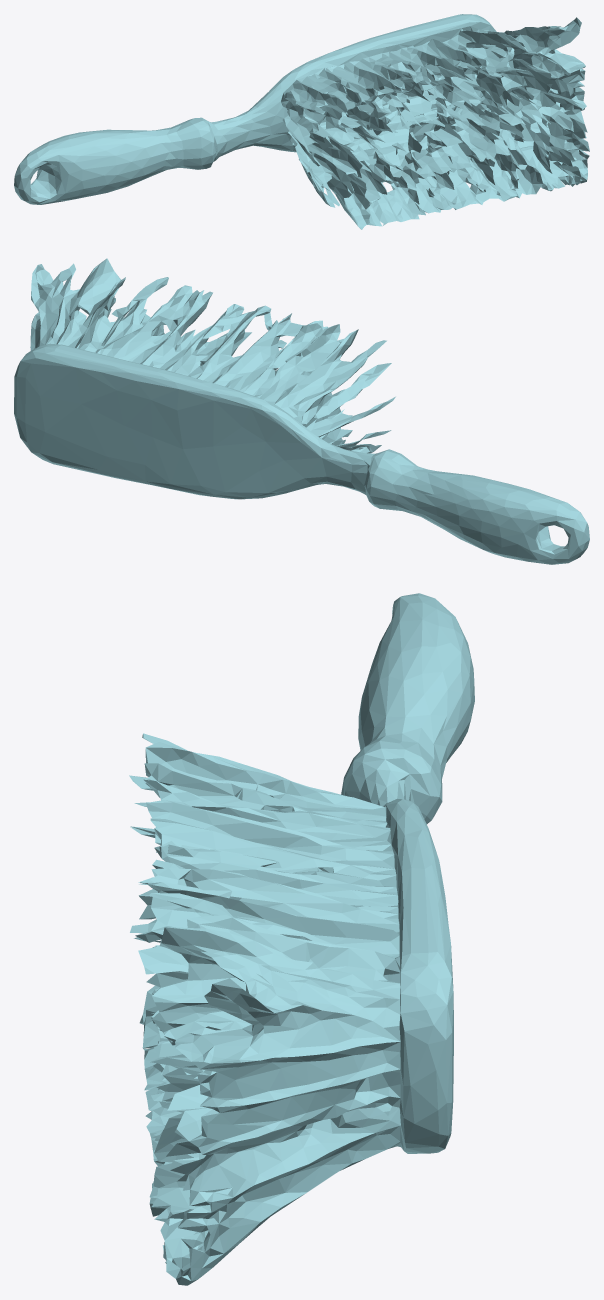
File: red_brush.obj
3 views of the same model, one above another, from view 1: azimuth 30°, elevation 25°; view 2: azimuth 150°, elevation 25°; view 3: azimuth 270°, elevation 25° (orthographic). The views are drawn at different scales.
Visible parts, largest first — view 1: geometry_0; view 2: geometry_0; view 3: geometry_0.
Part boxes in pixels (bbox=[...]): geometry_0: bbox=[14, 14, 589, 229]; geometry_0: bbox=[14, 258, 589, 564]; geometry_0: bbox=[129, 593, 474, 1285].
Bounding box in the file's own units: 0.3191 × 0.095 × 0.0926.
